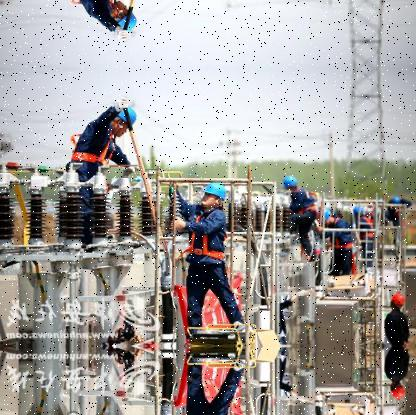helmet: (110, 101, 138, 140), (109, 0, 138, 36), (200, 179, 229, 209), (387, 292, 408, 311), (387, 380, 408, 399), (283, 174, 301, 194), (318, 205, 333, 227)
